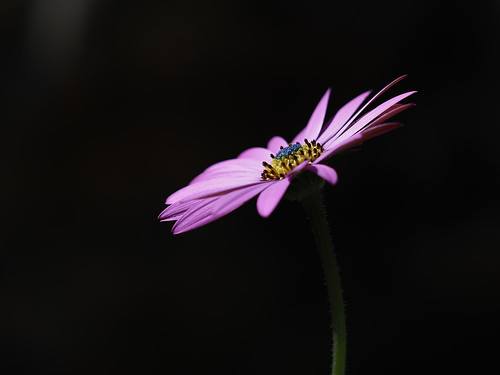flowers: (107, 41, 460, 294)
